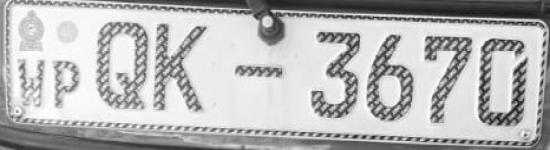-: (231, 56, 287, 87)
0: (474, 32, 530, 132)
3: (302, 28, 365, 127)
6: (366, 30, 419, 128)
7: (419, 31, 474, 131)
K: (151, 19, 209, 118)
P: (49, 53, 88, 113)
Q: (90, 17, 152, 112)
W: (12, 54, 48, 111)
